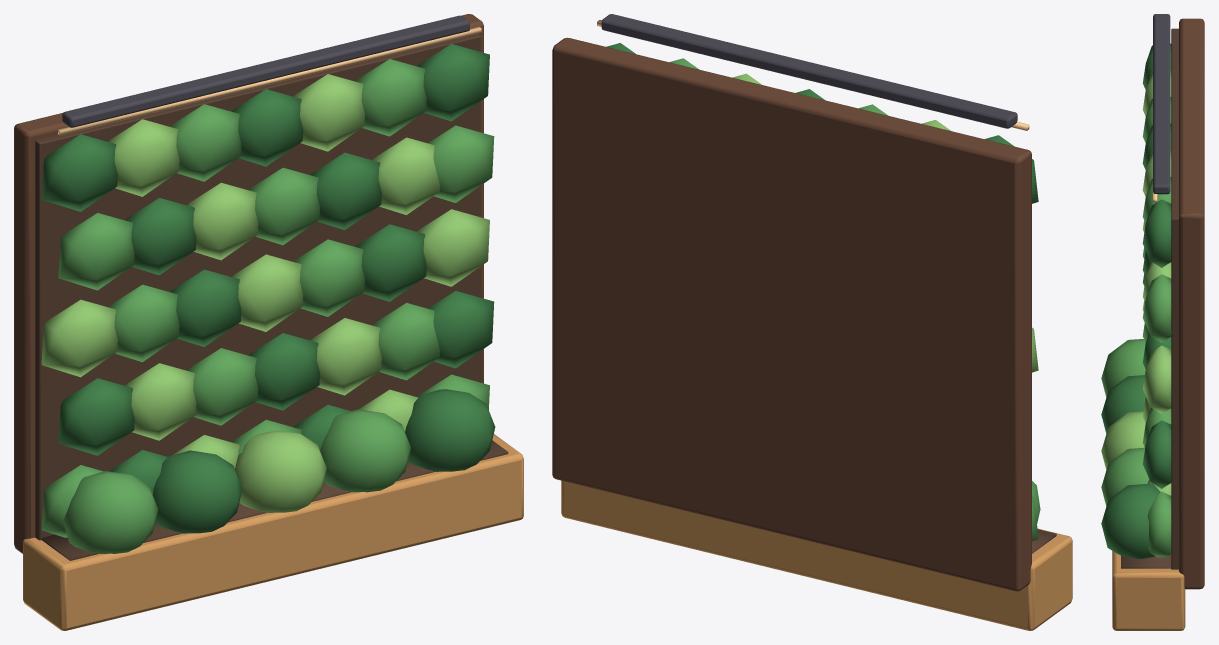
File: plant_wall_l3.glb
3 renders of one model, left to right at view 1: azimuth 30°, elevation 25°; view 2: azimuth 150°, elevation 25°; view 3: azimuth 270°, elevation 25°, orthographic. The views are drawn at different scales.
Visible parts, largest first — view 1: plant_wall_l3, plant_wall_grow_glow; view 2: plant_wall_l3; view 3: plant_wall_l3.
Boxes of the visible parts, x1=… form: plant_wall_l3: x1=14, y1=14, x2=523, y2=630; plant_wall_grow_glow: x1=58, y1=26, x2=481, y2=135; plant_wall_l3: x1=552, y1=14, x2=1072, y2=630; plant_wall_l3: x1=1101, y1=14, x2=1204, y2=630.
Size of the model in its own units: 2.2 by 2.23 by 0.4807.
